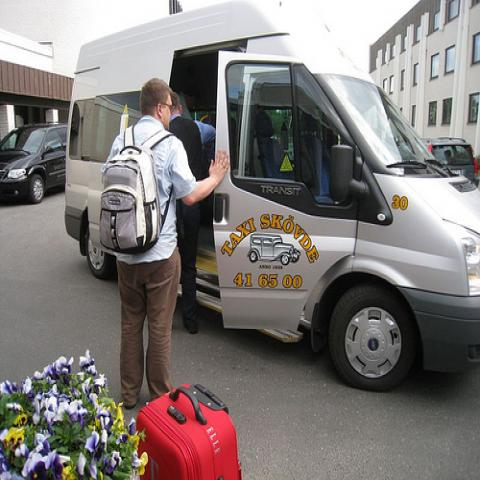bus: (67, 2, 479, 392)
car: (1, 120, 67, 204), (422, 140, 479, 189)
